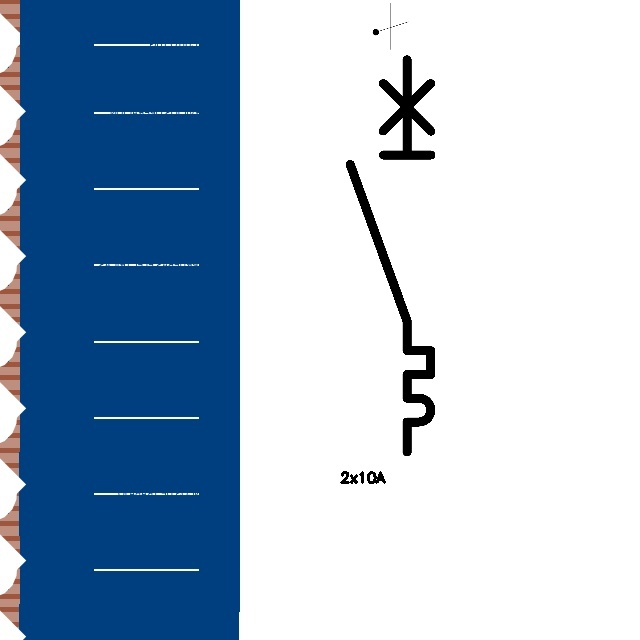interruptor_termomagnetico: (340, 49, 441, 462)
